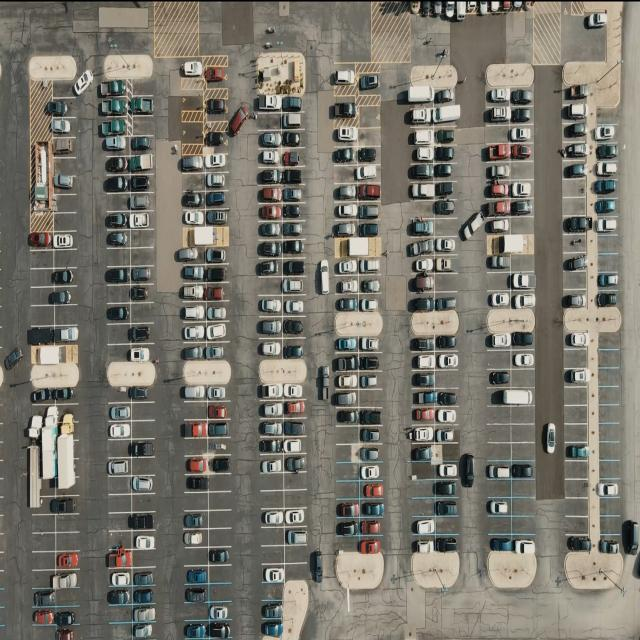space-empty: (485, 350, 512, 370), (30, 305, 54, 327), (54, 305, 79, 326), (562, 196, 588, 216), (562, 177, 588, 197), (564, 480, 590, 500), (485, 442, 511, 462), (130, 456, 156, 476), (181, 400, 207, 420), (106, 323, 130, 344), (180, 123, 204, 144), (130, 115, 155, 135), (512, 442, 537, 462), (131, 230, 156, 250), (258, 276, 283, 296), (31, 531, 56, 551), (107, 529, 132, 549), (411, 479, 436, 499), (31, 514, 56, 534), (564, 496, 589, 516), (562, 234, 587, 254), (510, 253, 536, 272), (512, 480, 538, 499), (484, 126, 510, 145), (408, 201, 434, 220), (182, 439, 208, 458), (130, 77, 156, 96), (487, 407, 513, 426), (358, 105, 380, 127), (562, 270, 586, 290), (596, 235, 620, 255), (564, 349, 588, 369), (564, 406, 588, 426), (512, 496, 536, 516), (512, 424, 536, 444), (52, 78, 76, 98), (436, 516, 461, 535), (486, 423, 511, 442), (105, 248, 130, 267), (262, 527, 287, 546), (131, 247, 156, 266), (511, 369, 536, 388), (30, 269, 55, 288), (411, 497, 436, 516), (107, 493, 132, 512), (105, 284, 130, 303), (284, 562, 309, 581), (511, 516, 536, 535), (182, 602, 208, 620), (486, 480, 512, 498), (488, 517, 514, 535), (511, 161, 534, 181), (132, 402, 155, 422), (336, 480, 359, 500), (30, 286, 53, 306), (564, 386, 588, 405), (510, 215, 534, 234), (262, 546, 286, 565), (412, 461, 436, 480), (208, 491, 232, 510), (30, 250, 54, 269), (57, 531, 81, 550), (132, 420, 156, 439), (209, 564, 233, 583), (56, 588, 80, 607), (54, 212, 78, 231), (358, 389, 382, 408), (185, 492, 209, 511), (336, 461, 360, 480), (32, 551, 56, 570), (565, 423, 589, 442), (108, 513, 132, 532), (208, 511, 232, 530), (208, 583, 232, 602), (511, 407, 535, 426), (564, 460, 589, 478), (180, 173, 205, 191), (105, 192, 130, 210), (257, 112, 282, 130), (435, 218, 460, 236), (565, 516, 590, 534), (130, 304, 152, 324), (598, 442, 620, 462), (598, 384, 620, 404), (107, 439, 130, 458), (284, 544, 307, 563), (439, 443, 462, 462), (53, 194, 77, 212), (485, 272, 509, 290), (106, 477, 130, 495), (132, 550, 156, 568), (184, 548, 208, 566), (54, 159, 78, 177), (108, 604, 132, 622), (262, 472, 286, 490), (336, 426, 360, 444), (356, 128, 380, 146), (262, 490, 286, 508), (208, 528, 232, 546), (33, 569, 55, 588), (598, 349, 620, 368), (284, 489, 306, 508), (334, 165, 356, 184), (598, 332, 620, 351), (436, 274, 458, 293), (437, 371, 459, 390), (132, 494, 155, 512), (180, 94, 203, 112), (208, 475, 231, 493), (282, 472, 306, 489), (56, 249, 77, 268), (599, 423, 620, 442), (598, 405, 620, 423), (336, 445, 358, 463), (57, 515, 79, 533), (598, 367, 620, 385), (598, 256, 620, 274), (264, 584, 286, 602), (598, 498, 620, 516), (600, 517, 622, 535), (108, 345, 130, 363), (596, 106, 618, 124), (208, 439, 230, 457), (106, 386, 129, 403), (599, 460, 620, 478), (108, 624, 133, 639), (336, 536, 359, 552), (33, 626, 57, 640), (182, 76, 204, 89), (358, 94, 380, 107)
space-occupied: (490, 386, 534, 406), (204, 92, 228, 117), (434, 104, 462, 125), (99, 97, 127, 118), (406, 105, 434, 126), (99, 116, 128, 136), (205, 126, 230, 149), (485, 458, 512, 479), (591, 178, 619, 198), (100, 136, 128, 156), (334, 64, 357, 88), (129, 95, 154, 117), (334, 99, 359, 121), (410, 180, 436, 201), (258, 316, 284, 337), (562, 214, 589, 234), (49, 118, 76, 138), (561, 141, 588, 161), (409, 237, 436, 257), (412, 387, 440, 406), (512, 348, 537, 369), (258, 258, 283, 279), (487, 495, 512, 516), (562, 288, 588, 308), (484, 105, 510, 125), (484, 332, 510, 352), (485, 179, 511, 199), (411, 443, 437, 463), (106, 550, 132, 570), (410, 217, 436, 237), (485, 161, 511, 181), (259, 339, 285, 359), (410, 254, 436, 274), (29, 325, 55, 345), (591, 124, 618, 143), (333, 388, 360, 407), (282, 316, 305, 338), (356, 71, 379, 93), (52, 137, 76, 158), (260, 294, 284, 315), (591, 198, 619, 216), (484, 200, 512, 218), (406, 88, 434, 106), (205, 120, 229, 141), (129, 155, 154, 175), (512, 460, 537, 480), (49, 98, 74, 118), (486, 87, 511, 107), (105, 266, 130, 286), (29, 230, 54, 250), (511, 272, 536, 292), (260, 417, 285, 437), (280, 149, 305, 169), (433, 291, 458, 311), (410, 294, 435, 314), (410, 273, 435, 293), (101, 78, 127, 97), (561, 161, 587, 180), (562, 123, 588, 142), (181, 383, 207, 402), (180, 303, 206, 322), (562, 102, 588, 121), (179, 265, 205, 284), (334, 372, 360, 391), (410, 423, 436, 442), (485, 215, 511, 234), (566, 533, 592, 552), (488, 533, 514, 552), (592, 216, 619, 234), (181, 58, 203, 80), (282, 338, 304, 360), (204, 66, 227, 87), (565, 442, 589, 462), (564, 331, 588, 351), (183, 511, 207, 531), (263, 563, 287, 583), (564, 366, 588, 386), (204, 152, 228, 172), (510, 178, 534, 198), (334, 126, 358, 146), (130, 265, 154, 285), (106, 402, 130, 422), (107, 304, 131, 324), (185, 528, 209, 548), (56, 324, 80, 344), (180, 282, 204, 302), (436, 350, 460, 370), (336, 275, 360, 295), (336, 407, 360, 427), (53, 285, 77, 305), (282, 400, 306, 420), (488, 369, 512, 389), (183, 620, 207, 640), (180, 322, 204, 342), (598, 534, 622, 554), (130, 210, 155, 229), (105, 210, 130, 229), (105, 230, 130, 249), (178, 153, 203, 172), (436, 479, 461, 498), (182, 419, 207, 438), (104, 157, 129, 176), (485, 143, 510, 162), (255, 94, 280, 113), (408, 128, 433, 147), (184, 585, 209, 604), (358, 518, 383, 537), (356, 182, 381, 201), (409, 144, 434, 163), (487, 288, 512, 307), (511, 289, 536, 308), (358, 498, 383, 517), (260, 399, 285, 418), (412, 352, 437, 371), (511, 533, 536, 552), (593, 161, 619, 179), (202, 246, 228, 264), (131, 322, 153, 343), (53, 174, 76, 194), (131, 475, 154, 495), (57, 551, 80, 571), (207, 454, 230, 474), (57, 605, 80, 625), (334, 144, 357, 164), (282, 295, 305, 315), (262, 620, 285, 640), (205, 264, 228, 284), (133, 512, 156, 532), (563, 252, 587, 271), (262, 509, 286, 528), (510, 124, 534, 143), (435, 236, 459, 255), (186, 565, 210, 584), (181, 190, 205, 209), (106, 457, 130, 476), (281, 276, 305, 295), (183, 456, 207, 475), (512, 332, 536, 351), (106, 420, 130, 439), (510, 198, 534, 217), (337, 336, 361, 355), (261, 455, 285, 474), (358, 481, 382, 500), (358, 462, 382, 481), (184, 475, 208, 494), (594, 142, 618, 161), (355, 164, 379, 183), (334, 202, 358, 221), (436, 534, 460, 553), (131, 439, 155, 458), (259, 220, 284, 238), (258, 240, 283, 258), (411, 517, 436, 535), (104, 174, 129, 192), (32, 607, 57, 625), (412, 371, 437, 389), (562, 85, 587, 103), (177, 246, 202, 264), (412, 407, 437, 425), (205, 170, 227, 190), (358, 424, 380, 444), (596, 288, 618, 308), (206, 320, 228, 340), (206, 302, 228, 322), (33, 589, 56, 608), (130, 136, 153, 155), (437, 497, 460, 516), (486, 253, 509, 272), (54, 268, 77, 287), (259, 130, 282, 149), (283, 454, 306, 473), (131, 344, 154, 363), (511, 105, 534, 124), (57, 569, 80, 588), (282, 221, 305, 240), (282, 239, 305, 258), (205, 282, 228, 301), (358, 276, 381, 295), (412, 534, 435, 553), (510, 142, 534, 160), (133, 531, 157, 549), (434, 145, 458, 163), (130, 192, 154, 210), (130, 174, 154, 192), (258, 168, 282, 186), (334, 183, 358, 201), (128, 284, 152, 302), (261, 438, 285, 456), (260, 203, 284, 221), (259, 184, 283, 202), (335, 354, 359, 372), (281, 168, 305, 186), (358, 535, 382, 553), (204, 342, 228, 360), (409, 164, 434, 181), (209, 547, 231, 566), (284, 508, 306, 527), (209, 601, 231, 620), (281, 95, 303, 114), (208, 418, 230, 437), (54, 232, 76, 251), (357, 202, 379, 221), (437, 460, 459, 479), (337, 498, 359, 517), (263, 600, 285, 619), (207, 402, 229, 421), (283, 437, 305, 456), (208, 621, 230, 640), (284, 418, 306, 437), (437, 407, 459, 426), (132, 567, 154, 586), (284, 527, 307, 545), (355, 146, 378, 164), (259, 148, 282, 166), (205, 190, 228, 208), (357, 445, 380, 463), (337, 518, 360, 536), (435, 256, 458, 274), (358, 409, 381, 427), (280, 130, 303, 148), (435, 88, 458, 106), (435, 335, 458, 353), (32, 386, 55, 404), (281, 203, 304, 221), (54, 384, 77, 402), (336, 259, 359, 277), (205, 209, 228, 227), (109, 568, 132, 586), (437, 425, 460, 443), (182, 208, 205, 226), (182, 342, 205, 360), (109, 588, 133, 605), (411, 336, 435, 353), (434, 128, 458, 145), (336, 296, 360, 313), (598, 479, 619, 498), (358, 352, 379, 371), (512, 89, 534, 107), (207, 384, 229, 402), (436, 200, 458, 218), (280, 112, 302, 130), (133, 587, 155, 605), (132, 622, 154, 640), (282, 259, 304, 277), (56, 496, 78, 514), (260, 384, 283, 401), (335, 219, 358, 236), (281, 185, 304, 202), (358, 372, 379, 390), (434, 164, 456, 181), (282, 383, 304, 400), (597, 273, 619, 290), (356, 257, 378, 274), (356, 220, 378, 237), (134, 604, 156, 621), (358, 296, 380, 313), (436, 180, 456, 198), (438, 388, 458, 406), (131, 386, 152, 403), (182, 141, 205, 156), (358, 337, 378, 354), (56, 626, 74, 640)
